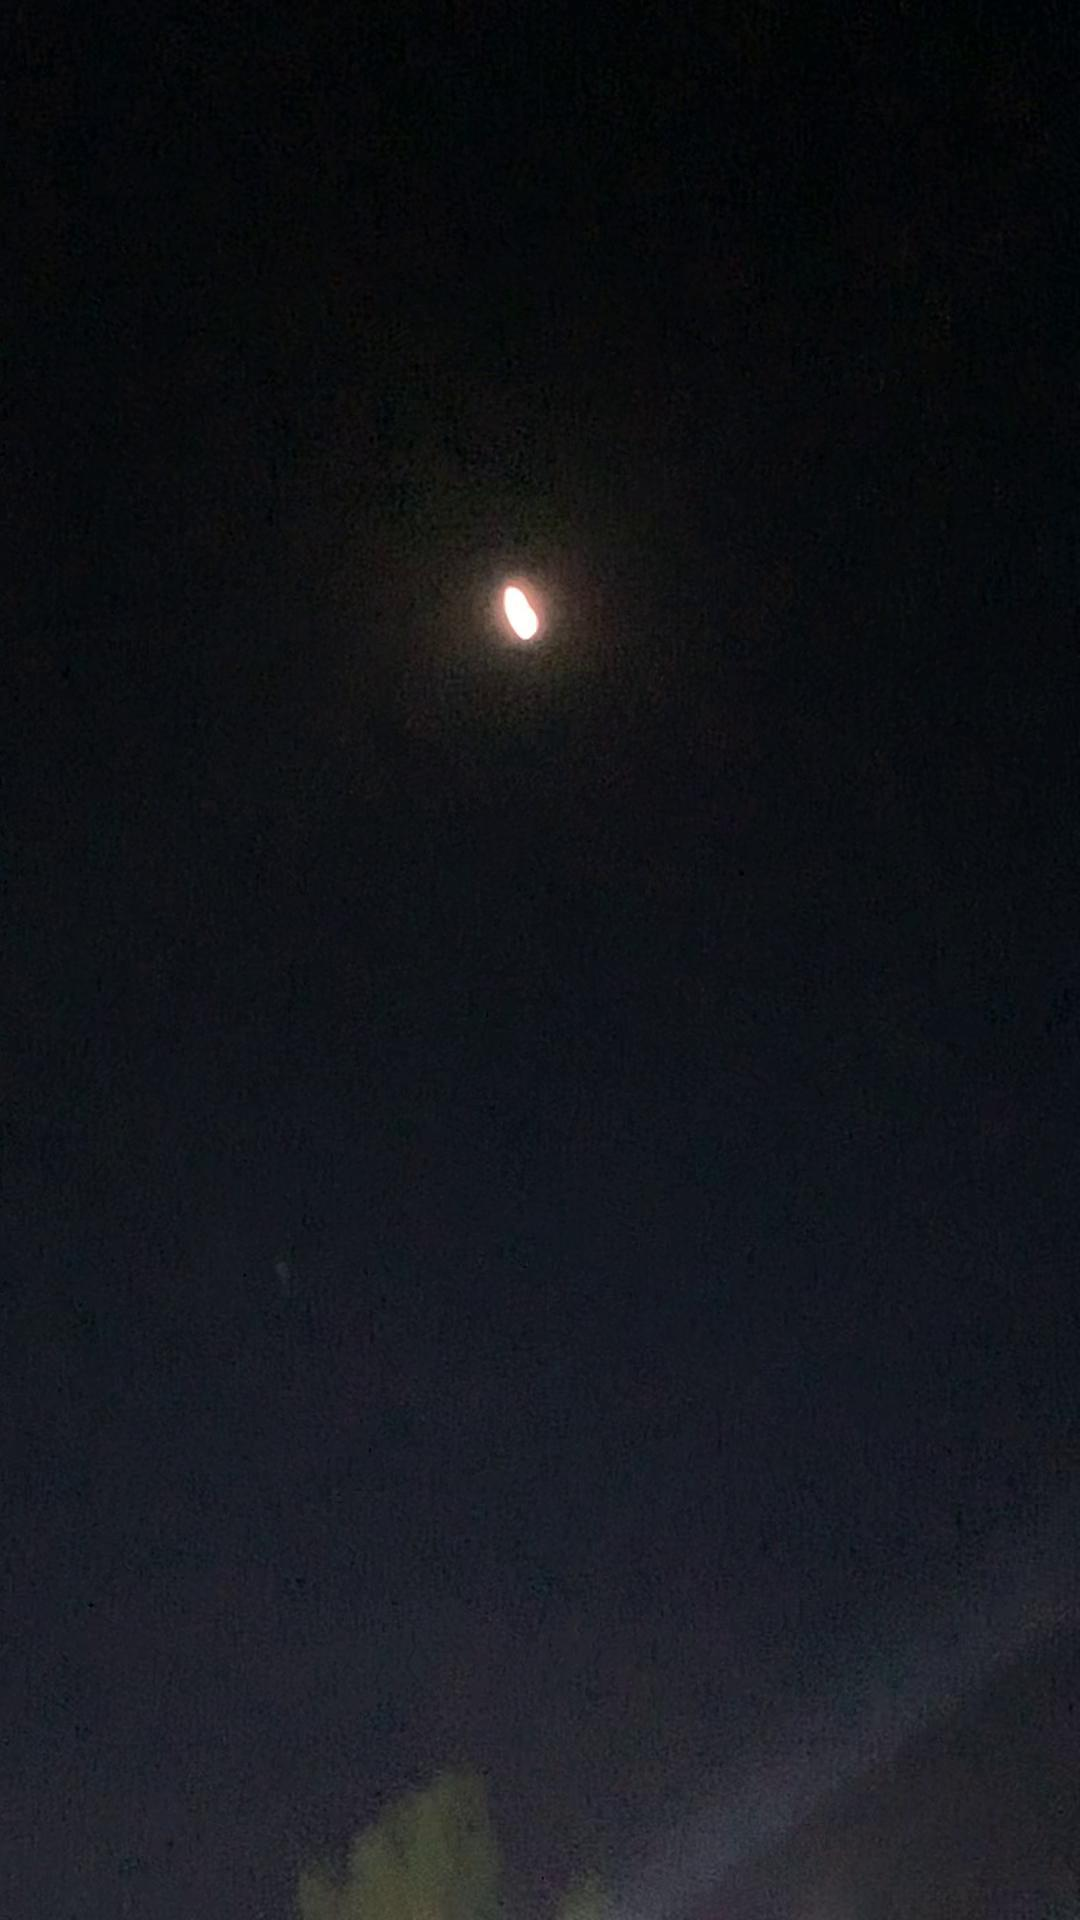moon: (485, 570, 560, 649)
